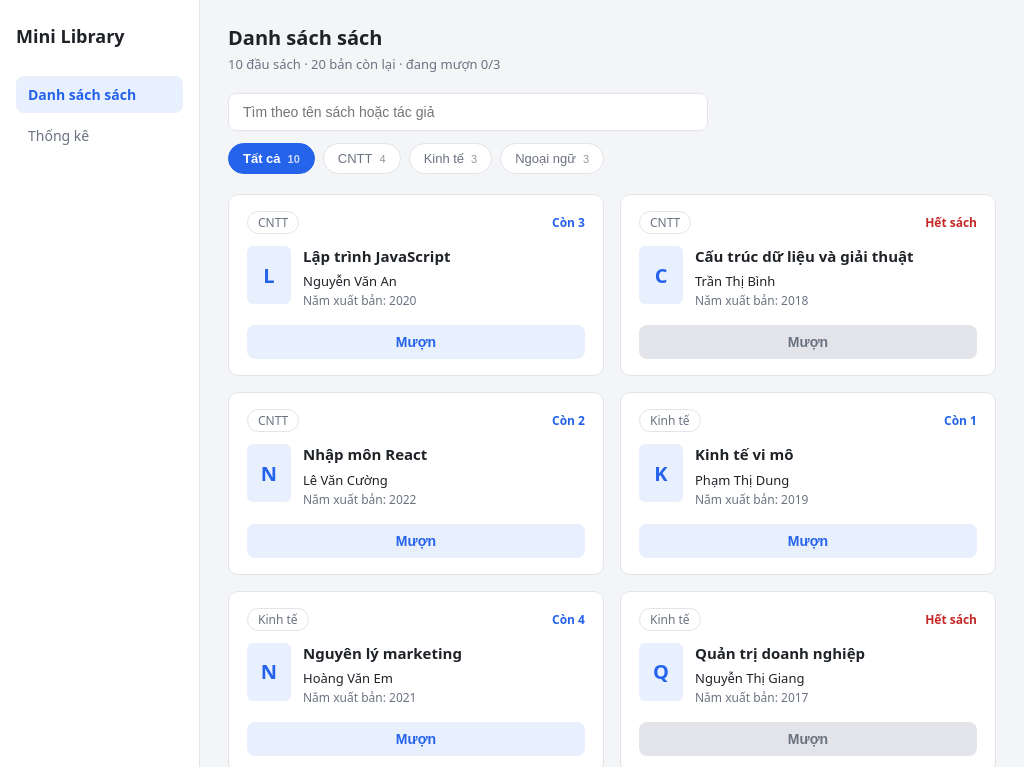
Test: trang thống kê hiển thị biểu đồ số đầu sách theo thể loại
The width and height of the screenshot is (1024, 767).
Expected: the heading "Lập trình JavaScript" is shown, [303,246,450,266]
Click the link "Thống kê".
click(59, 136)  # box [28,126,89,145]
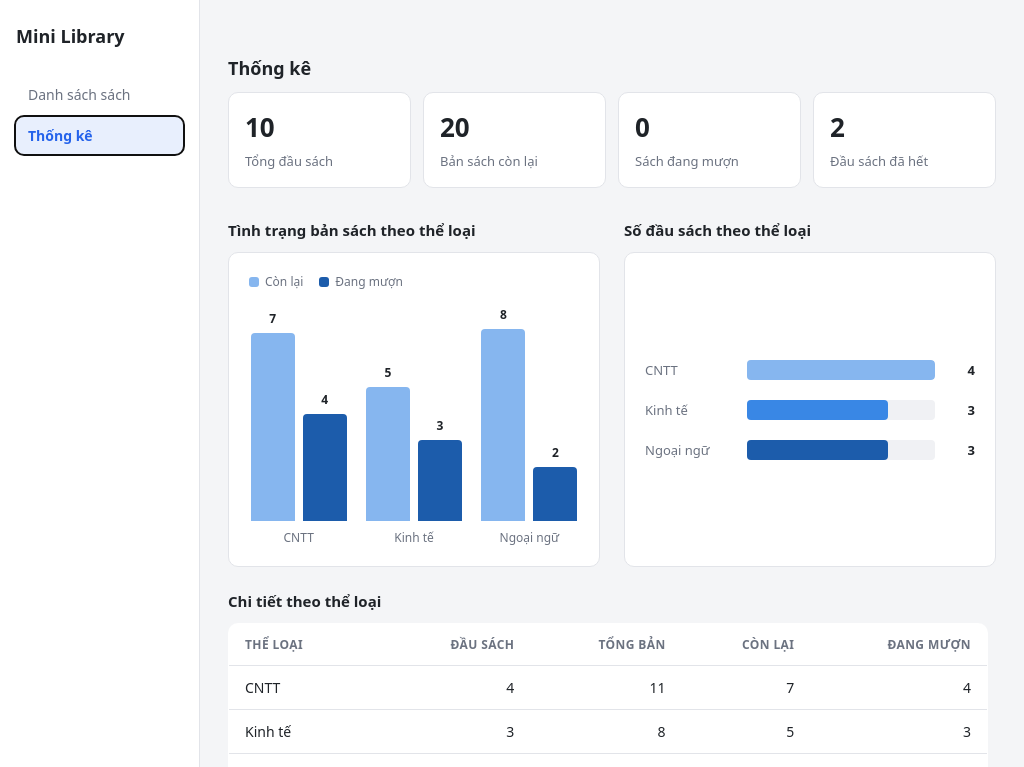
Result: the heading "Thống kê" is shown at [228,56,311,80]
Result: the element titled "CNTT: 4 đầu sách" is shown at [747,360,935,380]
Result: the element titled "Kinh tế: 3 đầu sách" is shown at [747,400,888,420]
